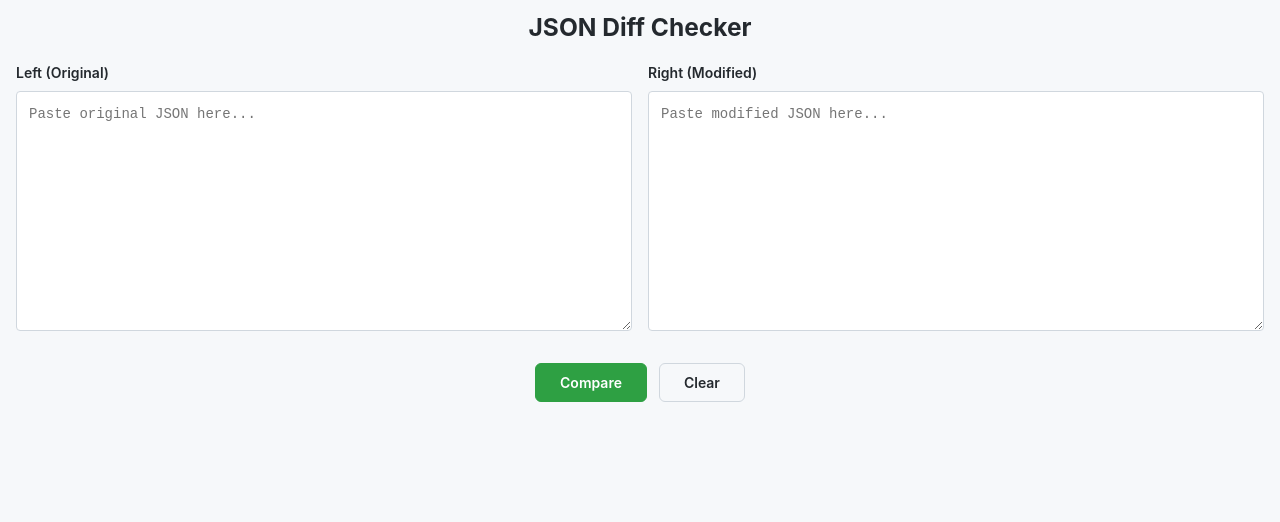
App — Integration Tests › T2-04 (AC-2): reordered keys → NoDiffMessage shown
Click the text box named "Left JSON input" at x=324, y=211, box [16,91,632,331]
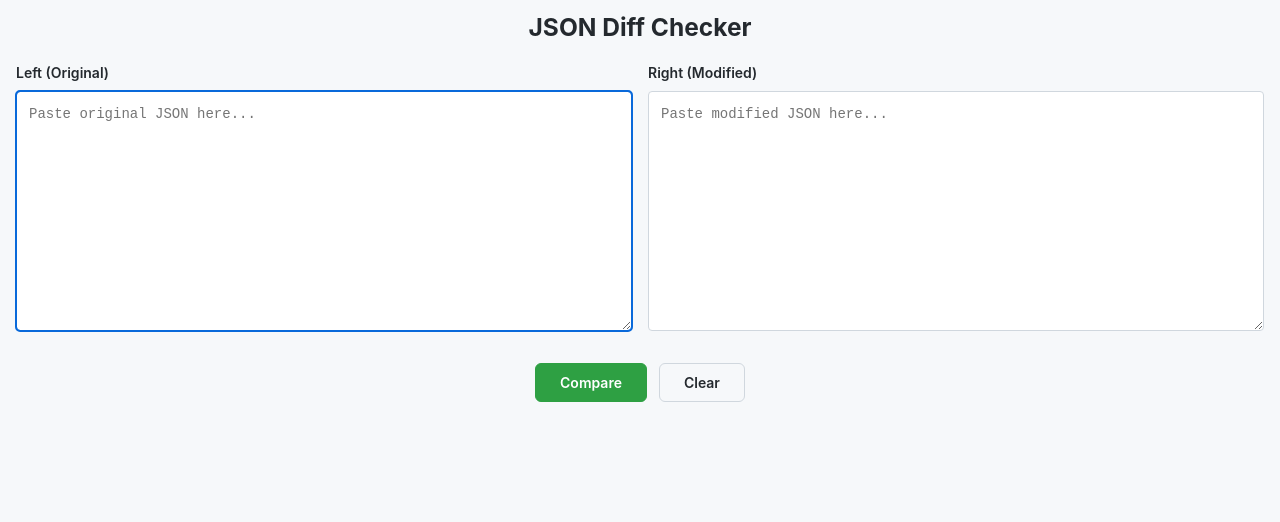
Type keys "{\"b\":1,\"a\":2}"
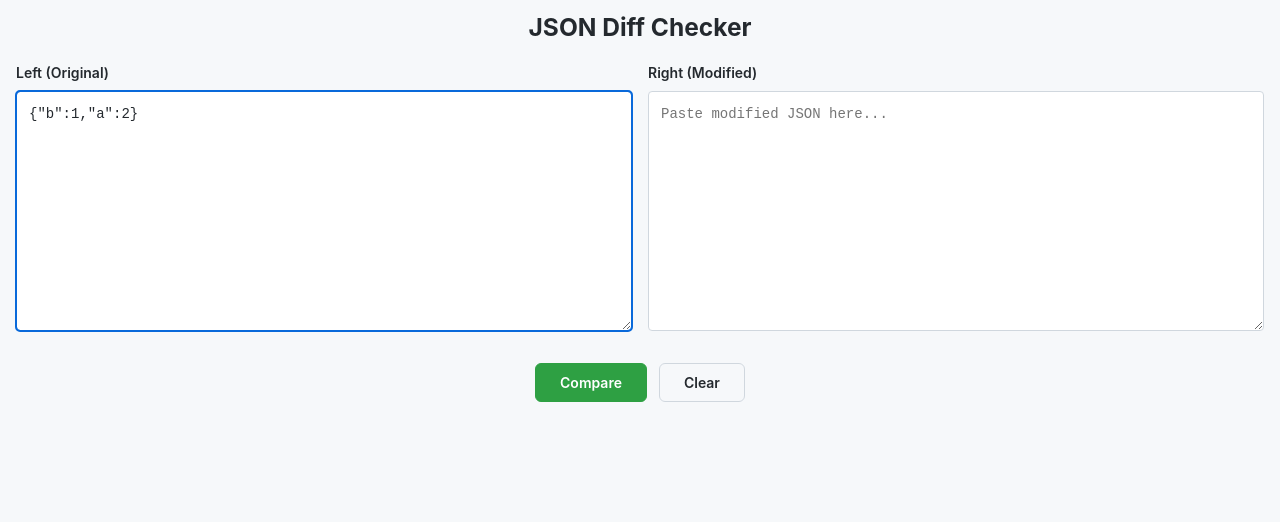
Click the text box named "Right JSON input" at x=956, y=211, box [648,91,1264,331]
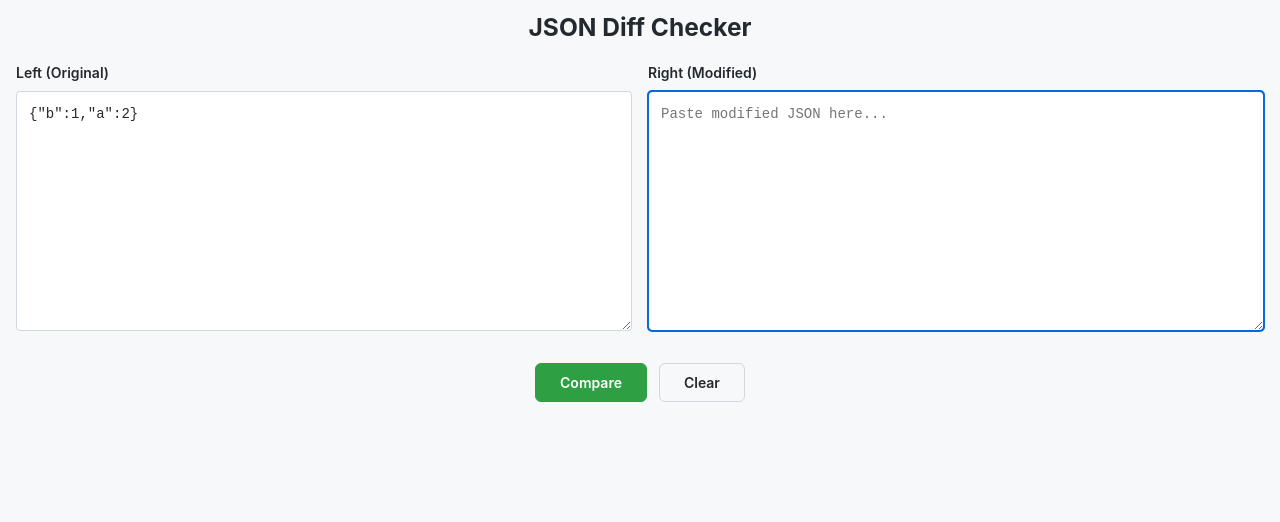
Type keys "{\"a\":2,\"b\":1}"
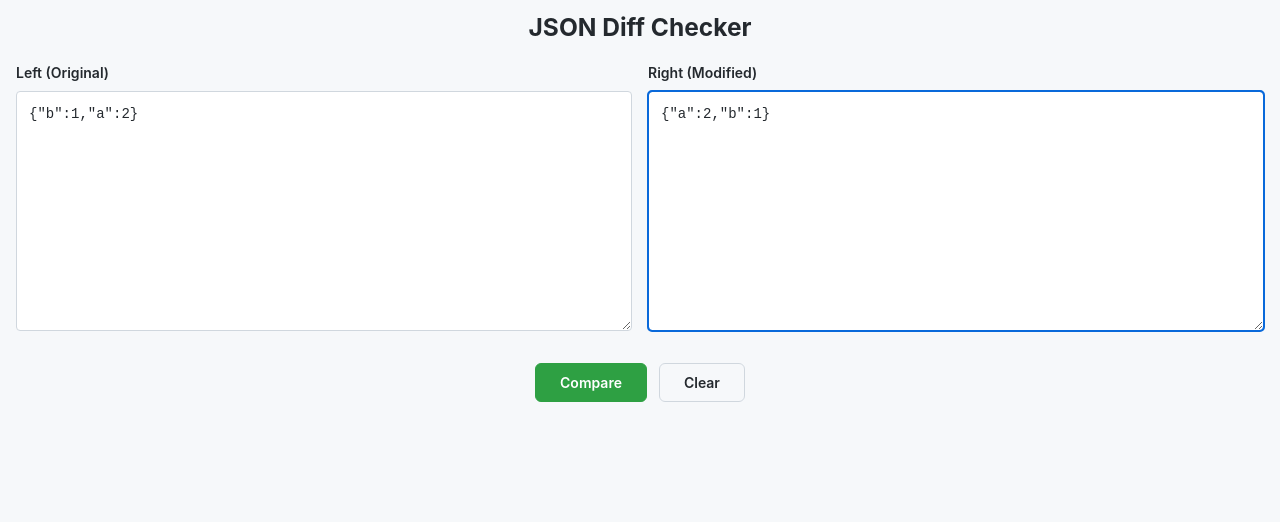
Click the button "Compare" at x=591, y=382, box [535,363,647,402]
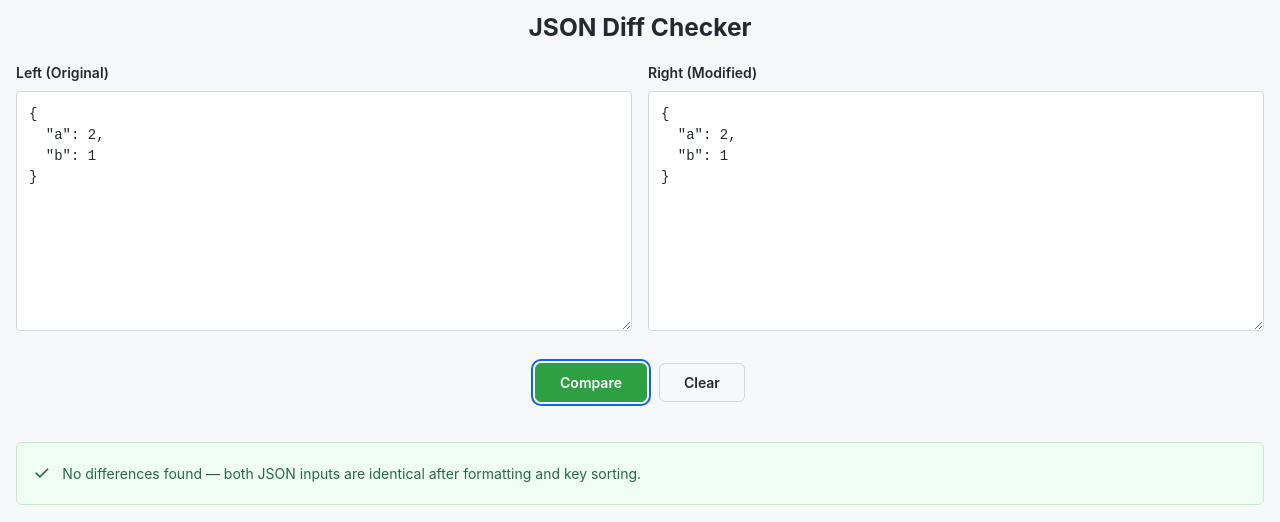
Check: the message is shown, box [16,442,1264,505]
Check: the text "No differences found" is shown, box [62,465,641,482]
